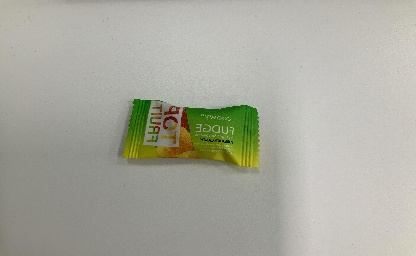jeli: (114, 96, 266, 170)
